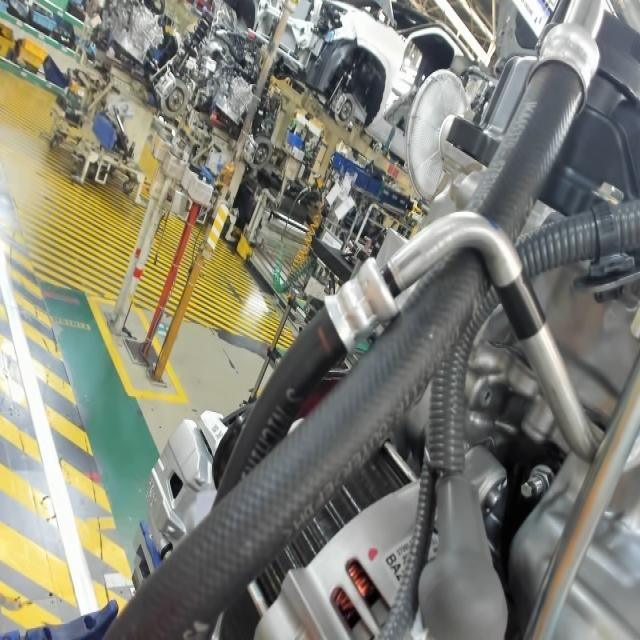Alternator-BA2: (384, 548, 407, 584)
Hose Discharge-HT: (489, 254, 551, 358)
